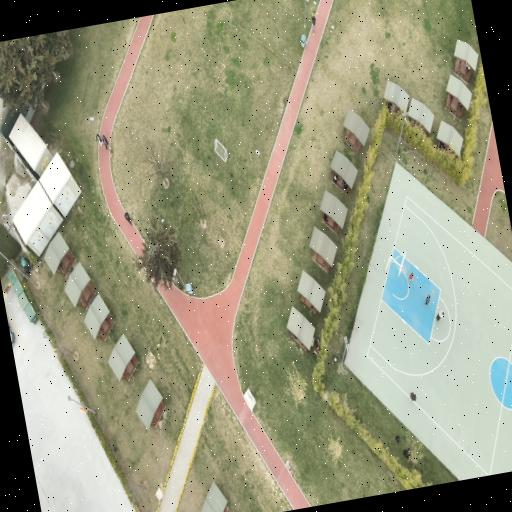car: (9, 325, 14, 345)
person: (434, 310, 445, 320), (125, 211, 132, 224), (102, 135, 108, 149), (403, 448, 410, 458), (312, 16, 316, 31), (96, 134, 102, 144), (425, 294, 430, 305), (410, 392, 416, 401), (333, 174, 338, 183), (409, 273, 413, 283), (343, 181, 348, 189), (396, 435, 400, 443)
